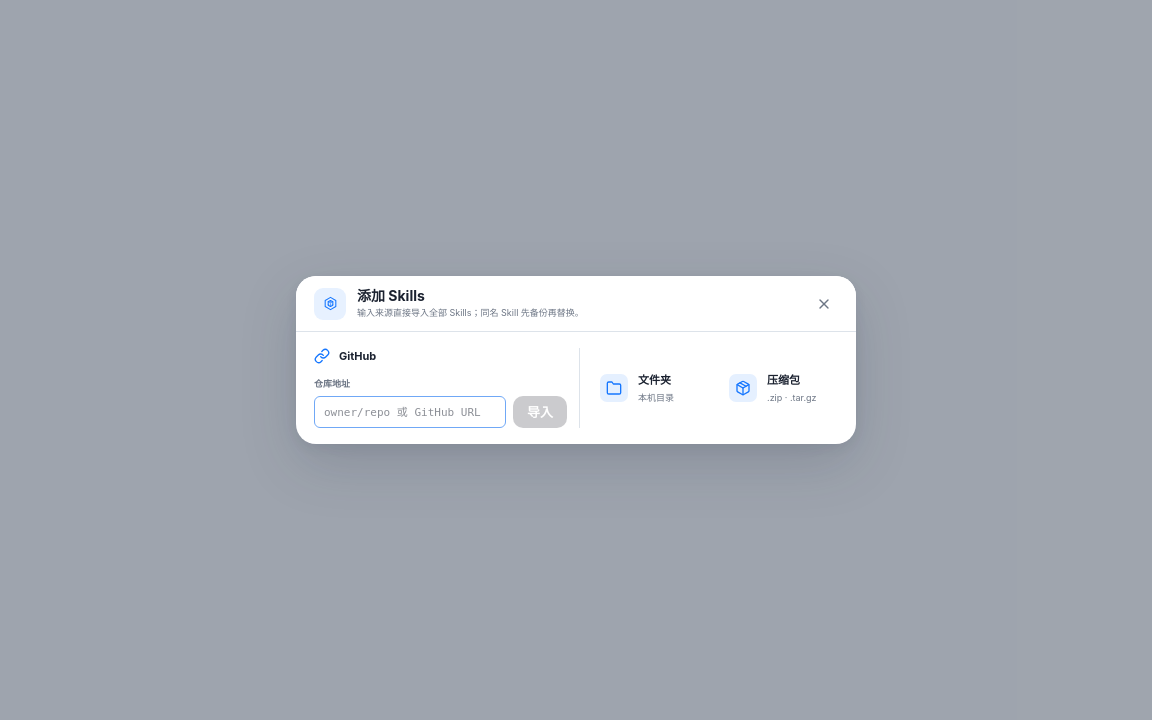
Test: SkillInstallDialog central asset intake › imports every resolved central candidate immediately without assigning Agents
This screenshot has width=1152, height=720.
Type "  acme/skills  " into the field labelled "仓库地址" at [410, 412], box [314,396,506,428]
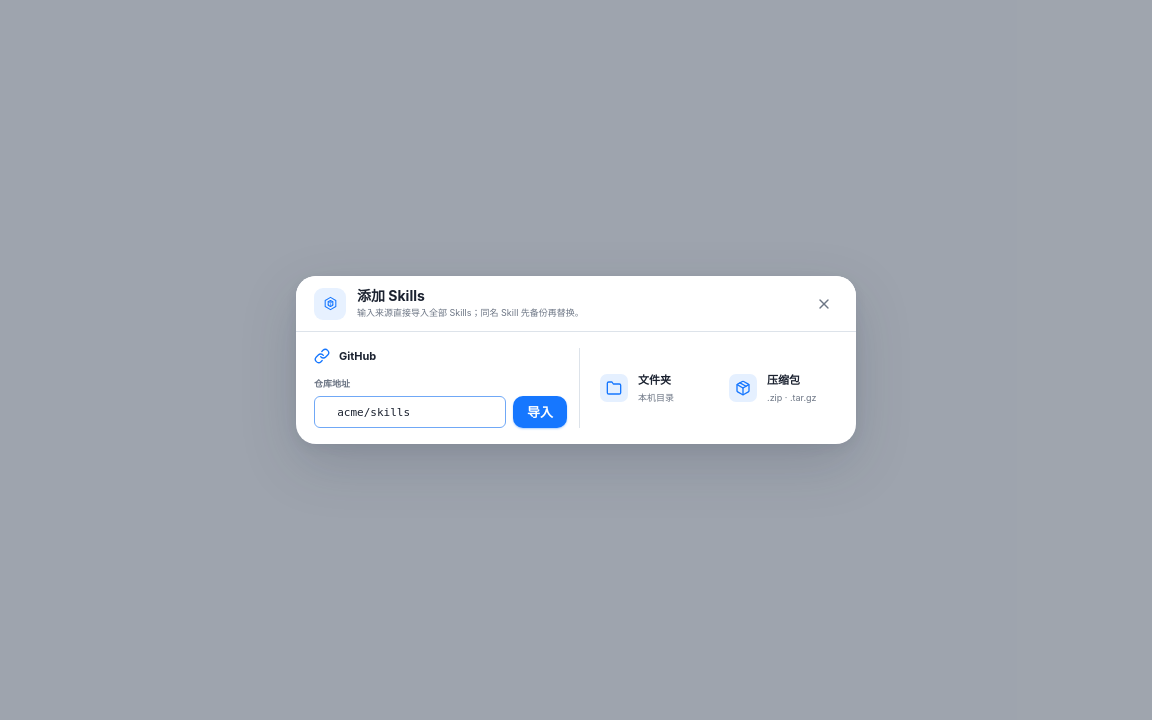
Click the button "导入" at [540, 412], box [513,396,567,428]
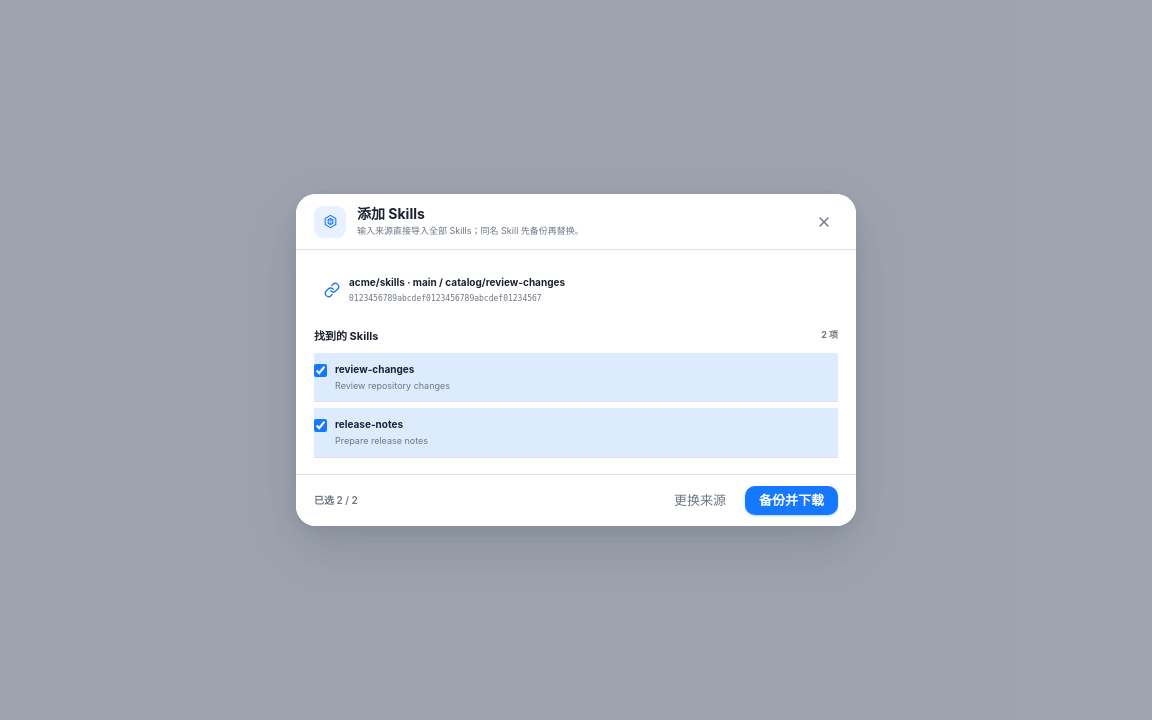
Result: the checkbox labelled "review-changes" is shown at [314,364,327,377]
